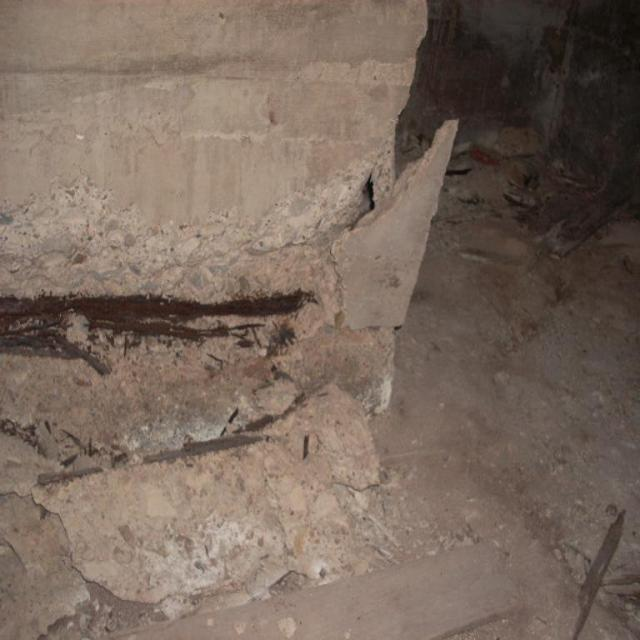spalling: (0, 112, 401, 497)
